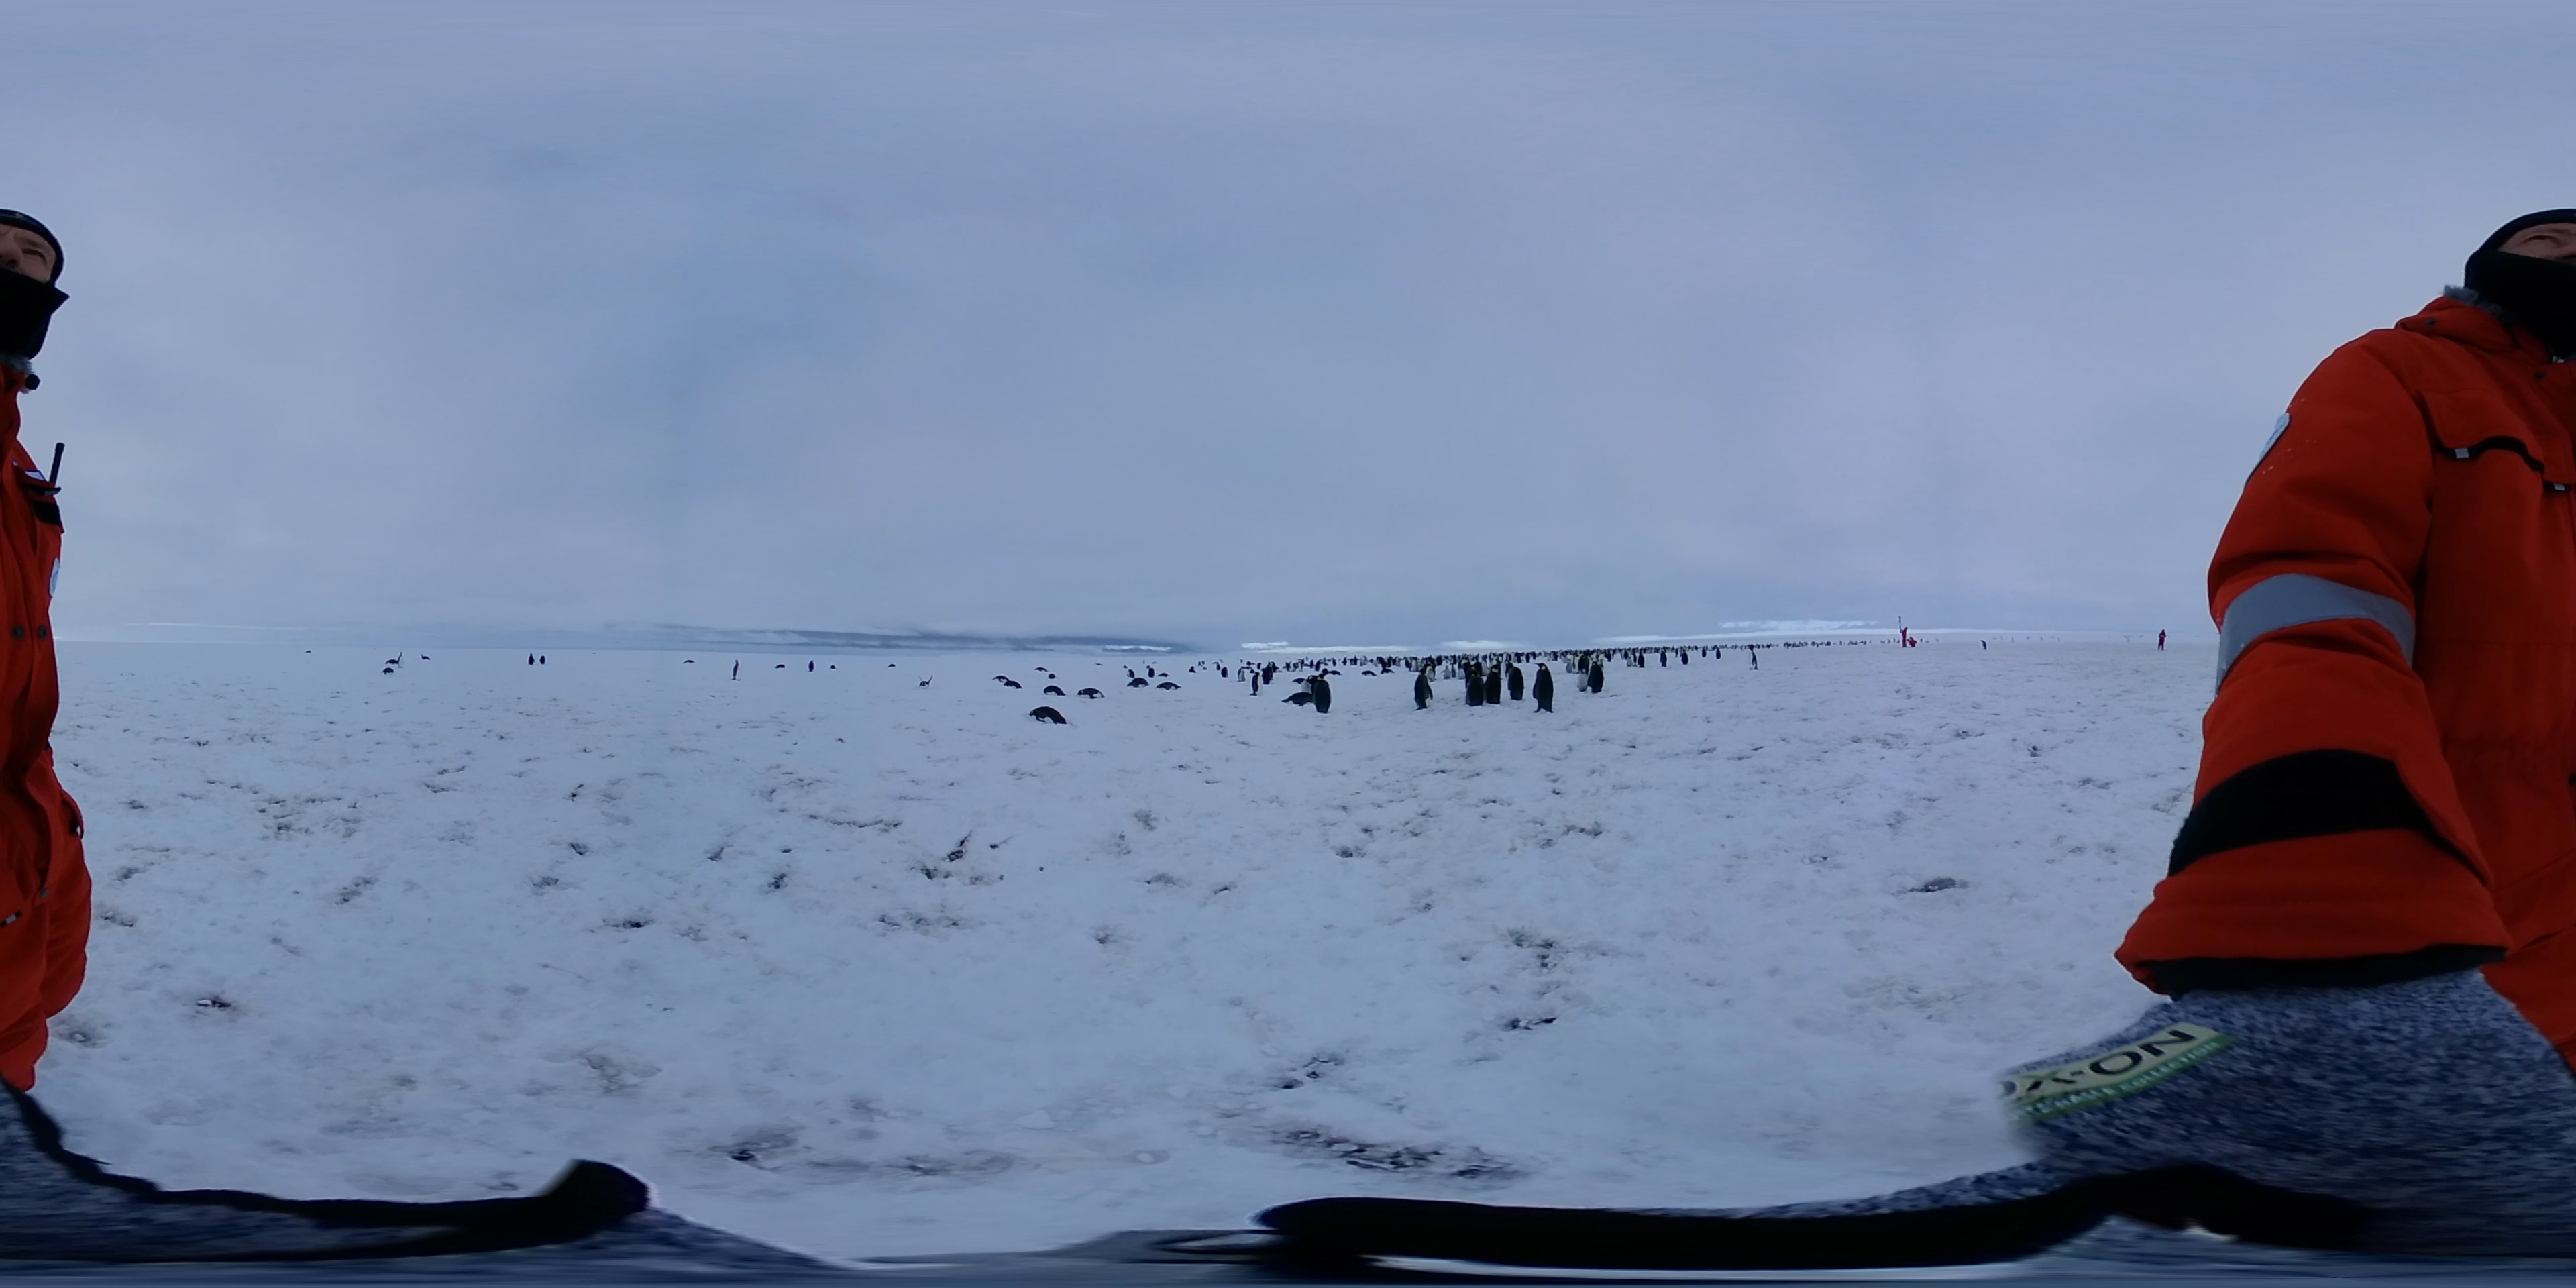adult_standing_penguin: (1528, 659, 1556, 716), (1313, 670, 1334, 716), (1467, 670, 1488, 708), (1413, 670, 1429, 716), (1589, 662, 1603, 697), (1249, 672, 1263, 698), (1746, 649, 1758, 674)
adult_toboggan_penguin: (1028, 703, 1069, 726), (1281, 692, 1318, 708), (1074, 687, 1107, 700), (1042, 683, 1068, 698), (1155, 680, 1181, 692), (1125, 678, 1148, 690), (1000, 680, 1023, 690), (917, 678, 933, 688), (992, 674, 1010, 680)
juvenile_penguin: (1577, 667, 1589, 692)
researcher: (2164, 184, 2576, 1288), (0, 187, 82, 1204), (2155, 629, 2170, 649)
